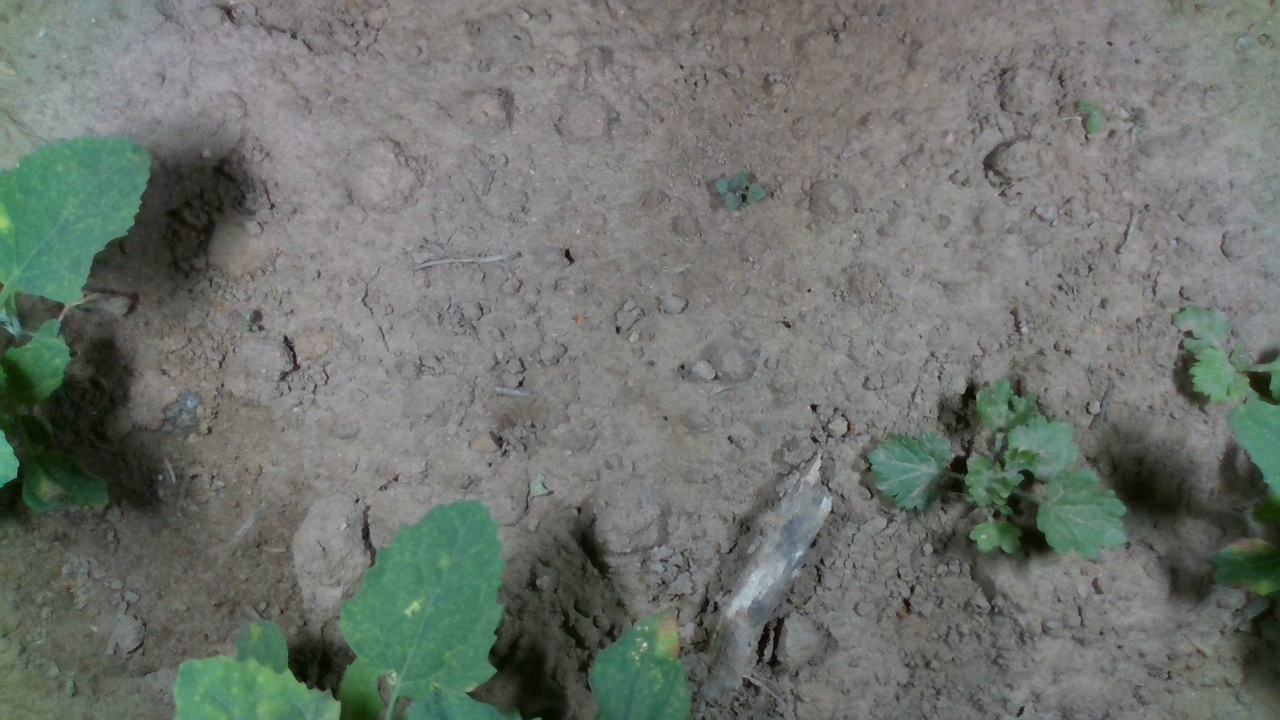weed: (711, 166, 769, 219)
